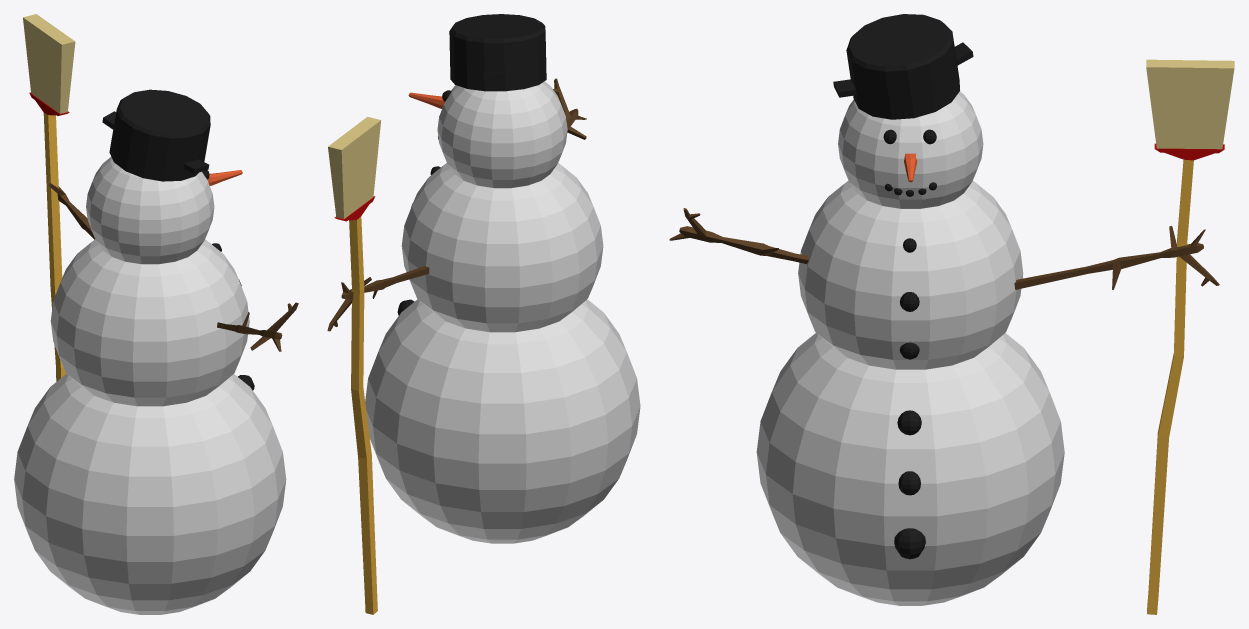
Rendered from Snowmen.fbx.
3 renders of one model, left to right at view 1: azimuth 30°, elevation 25°; view 2: azimuth 150°, elevation 25°; view 3: azimuth 270°, elevation 25°, orthographic. The views are drawn at different scales.
Parts seen in each view (by area): view 1: Snowmen; view 2: Snowmen; view 3: Snowmen.
Part boxes in pixels (x1,y1,x2,y2): Snowmen: (14, 14, 298, 614); Snowmen: (327, 14, 640, 614); Snowmen: (669, 14, 1234, 614).
Bounding box in the file's own units: 205 × 410 × 367.
